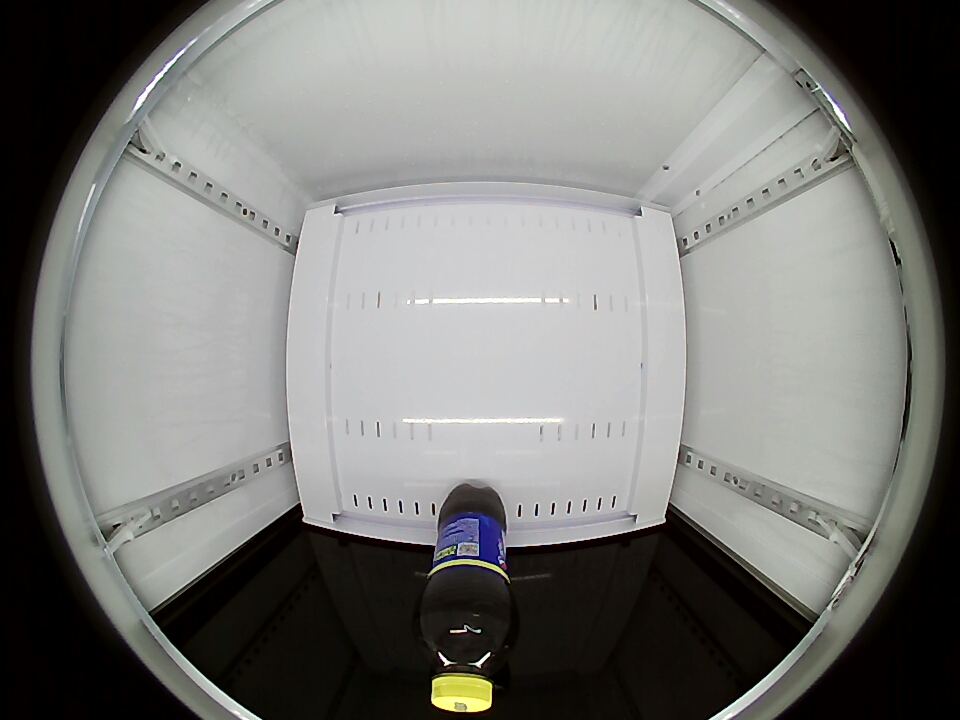baishikele: (419, 605, 514, 712)
